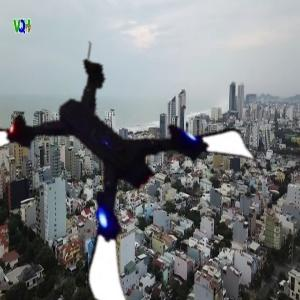drone: (4, 40, 254, 290)
